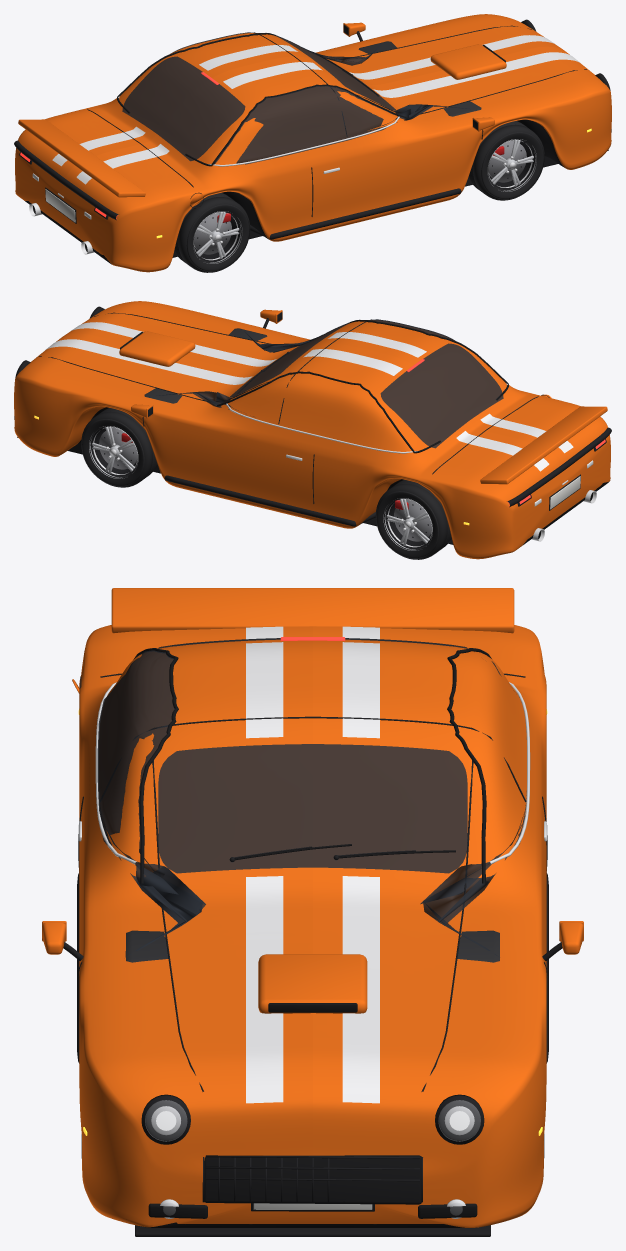
3 views of the same model, one above another, from view 1: azimuth 30°, elevation 25°; view 2: azimuth 150°, elevation 25°; view 3: azimuth 270°, elevation 25° (orthographic). The views are drawn at different scales.
Visible parts, largest first — view 1: body, glass_screen_1, glass_side_R, stripe, wheel_RR_tyre, stripe.001, wing_lip, wheel_FR_tyre, bonnet_scoop, side_skirt, glass_screen_0, tail_housing (+10 smaller); view 2: body, glass_screen_1, stripe.001, wheel_RL_tyre, stripe, wing_lip, wheel_FL_tyre, bonnet_scoop, side_skirt.001, glass_screen_0, tail_housing, wheel_RL_disc (+10 smaller); view 3: body, glass_screen_0, wing_lip, stripe, stripe.001, glass_side_R, grille_back, bonnet_scoop, splitter, glass_side_L, dashboard, head_lens (+6 smaller).
Part boxes in pixels (bbox=[...]): body: bbox=[15, 14, 611, 272]; glass_screen_1: bbox=[122, 56, 245, 161]; glass_side_R: bbox=[213, 85, 476, 164]; stripe: bbox=[76, 52, 580, 184]; wheel_RR_tyre: bbox=[174, 192, 250, 272]; stripe.001: bbox=[52, 35, 554, 166]; wing_lip: bbox=[18, 119, 145, 197]; wheel_FR_tyre: bbox=[468, 121, 544, 200]; bonnet_scoop: bbox=[430, 44, 506, 79]; side_skirt: bbox=[250, 188, 461, 239]; glass_screen_0: bbox=[276, 36, 395, 110]; tail_housing: bbox=[14, 140, 118, 220]; body: bbox=[14, 301, 610, 559]; glass_screen_1: bbox=[380, 343, 503, 448]; stripe.001: bbox=[45, 339, 549, 471]; wheel_RL_tyre: bbox=[375, 479, 451, 559]; stripe: bbox=[71, 322, 573, 453]; wing_lip: bbox=[480, 406, 607, 484]; wheel_FL_tyre: bbox=[81, 408, 157, 487]; bonnet_scoop: bbox=[119, 331, 195, 366]; side_skirt.001: bbox=[164, 475, 375, 526]; glass_screen_0: bbox=[230, 323, 349, 397]; tail_housing: bbox=[507, 427, 611, 507]; wheel_RL_disc: bbox=[394, 499, 431, 541]; body: bbox=[79, 625, 546, 1227]; glass_screen_0: bbox=[158, 744, 467, 873]; wing_lip: bbox=[111, 588, 514, 633]; stripe: bbox=[246, 626, 283, 1103]; stripe.001: bbox=[342, 626, 379, 1103]; glass_side_R: bbox=[97, 650, 205, 956]; grille_back: bbox=[204, 1155, 421, 1204]; bonnet_scoop: bbox=[258, 954, 367, 1013]; splitter: bbox=[135, 1225, 490, 1236]; glass_side_L: bbox=[420, 652, 526, 956]; dashboard: bbox=[125, 930, 499, 962]; head_lens: bbox=[145, 1100, 187, 1141].
Size of the model in its own units: 4.84 by 1.29 by 2.19.
